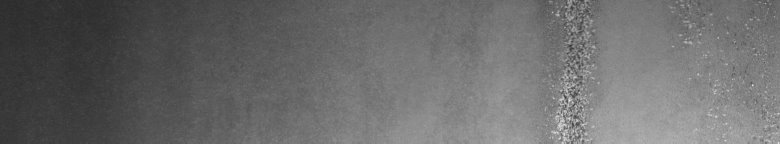hc: (544, 4, 601, 136)
